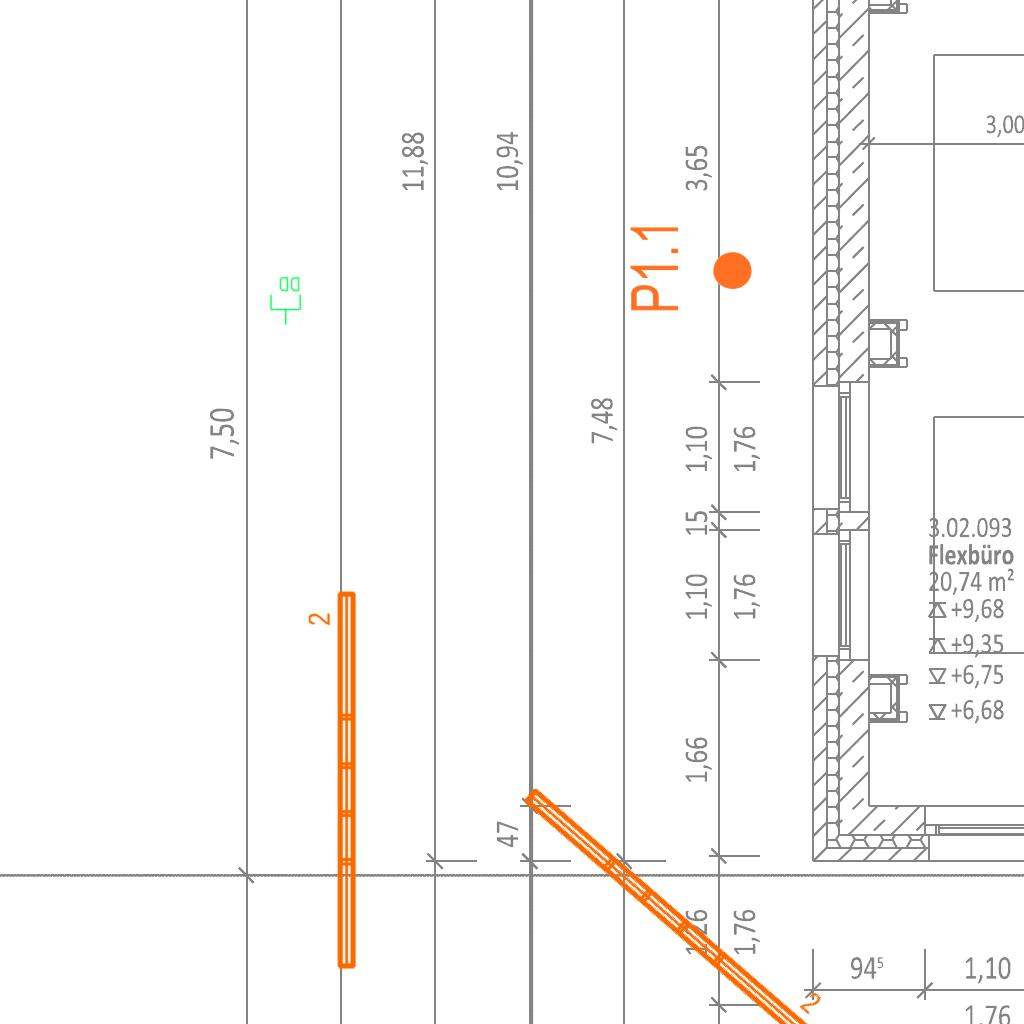Ambulanz_Pendelleuchte_LED: (515, 759, 844, 1024), (306, 587, 362, 974)
Datenanschluss_zweifach: (269, 275, 303, 326)
Downlight_LED_Einbauleuchten_Flur: (627, 221, 755, 314)
